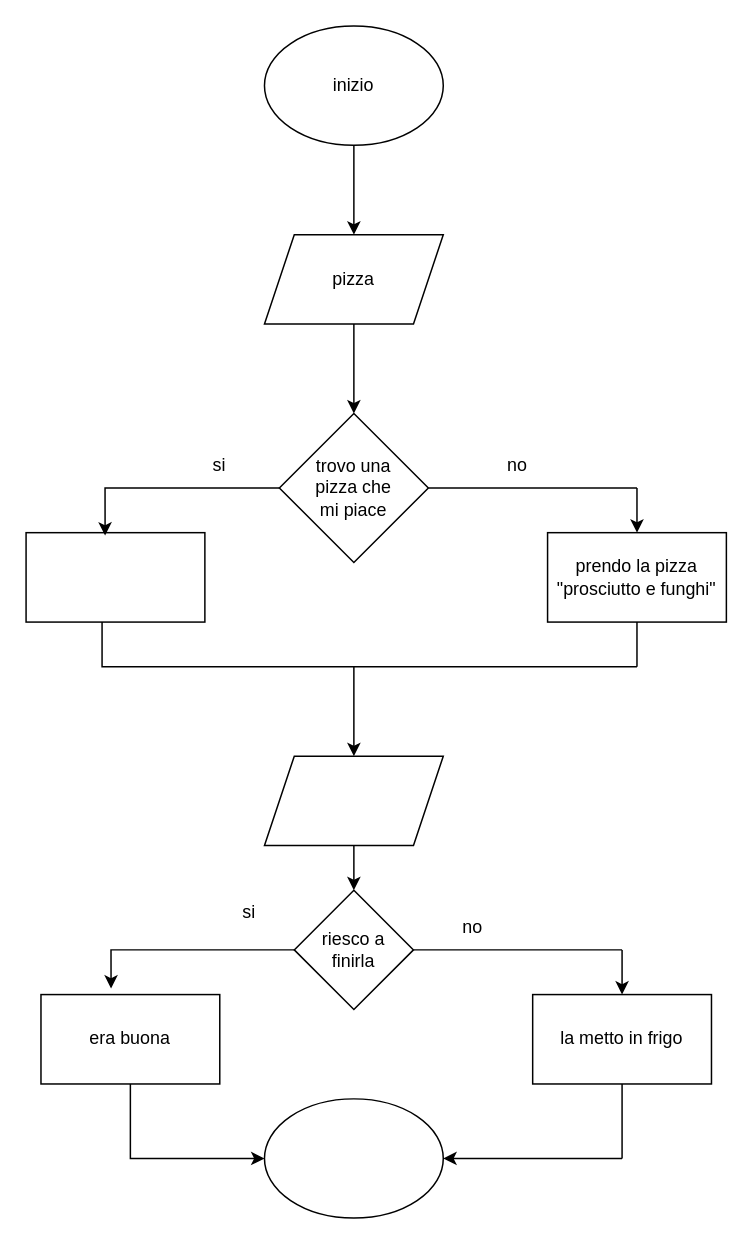
Image size: 752x1244. Some labels were removed from this diagram. The box of each missing label's shape, as (x1, y1, x2, y2) in pixels:
arriva la pizza calda e fumante: (263, 755, 443, 846)
fine: (263, 1097, 443, 1218)
la ordino: (25, 531, 205, 622)
